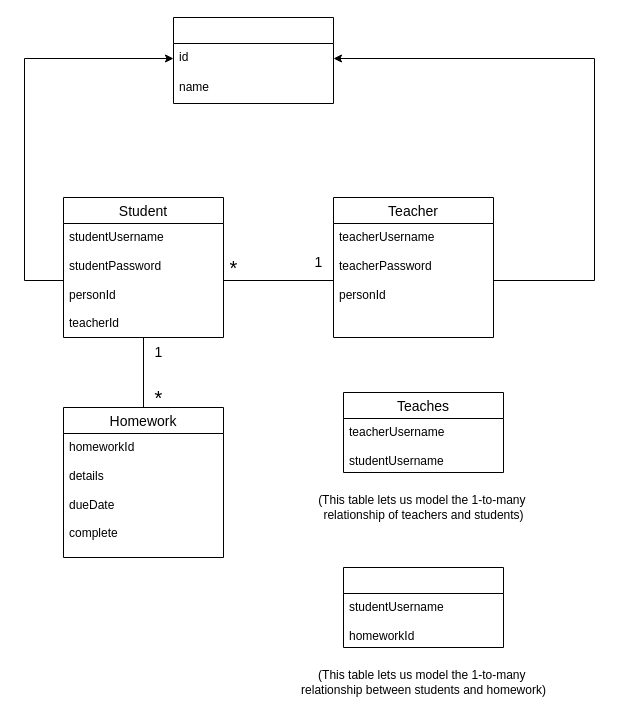
Image size: 620x720. Some labels were removed from this diagram. The box of each missing label's shape, as (x1, y1, x2, y2) in pixels:
Person: (172, 16, 334, 104)
StudentHomework: (342, 566, 504, 648)
